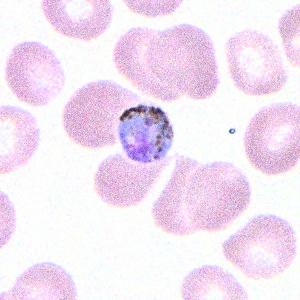Infected: (119, 105, 173, 161)
Uninfected: (159, 156, 253, 233), (63, 80, 139, 148), (149, 25, 219, 98), (225, 214, 294, 278), (94, 153, 168, 208), (226, 29, 286, 93), (244, 103, 298, 173), (6, 40, 63, 104), (113, 26, 162, 89)
